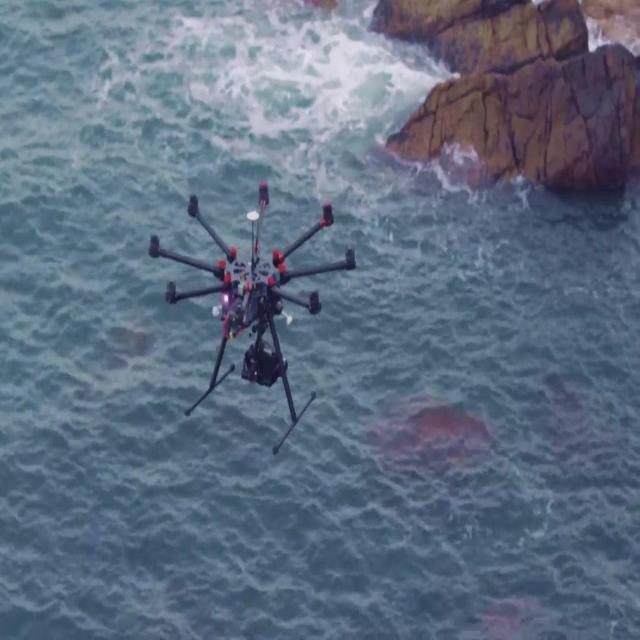drone: (149, 178, 357, 456)
